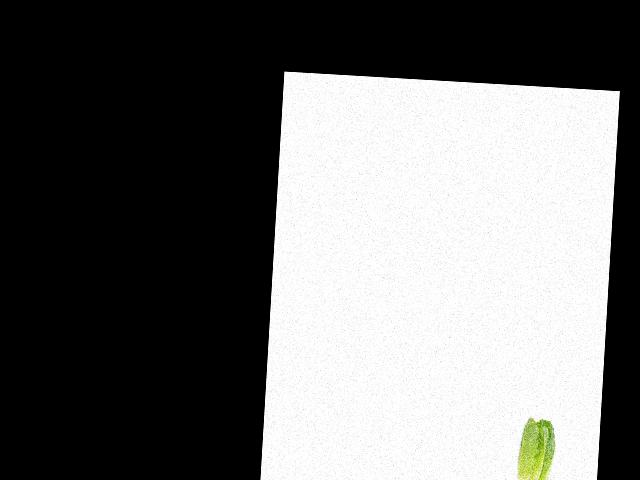lettuce: (511, 415, 556, 480)
